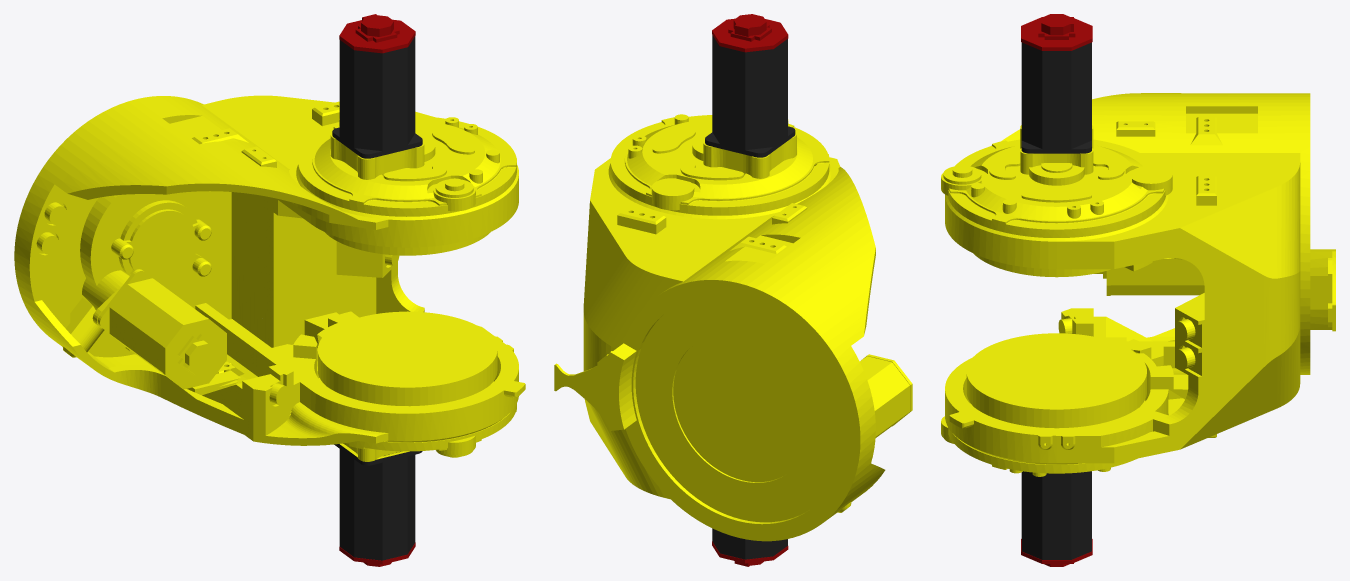
The picture shows the model from 3 angles, left to right: view 1: azimuth 30°, elevation 25°; view 2: azimuth 150°, elevation 25°; view 3: azimuth 270°, elevation 25°; orthographic projection.
Visible parts, largest first — view 1: node; view 2: node; view 3: node.
Boxes of the visible parts, left/top/right/bottom form: node: left=14, top=14, right=525, bottom=566; node: left=554, top=14, right=912, bottom=566; node: left=941, top=14, right=1335, bottom=566.
Size of the model in its own units: 1031 by 1452 by 962.
